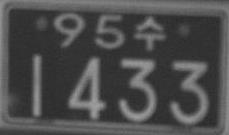1: (19, 54, 55, 116)
3: (169, 58, 210, 126), (118, 57, 158, 122)
4: (67, 56, 107, 120)
5: (94, 13, 125, 50)
9: (53, 10, 86, 48)
수: (134, 15, 167, 49)
